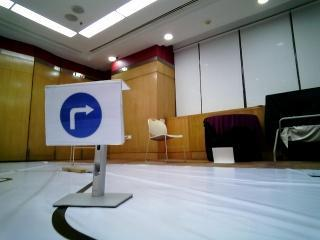right: (46, 86, 115, 144)
